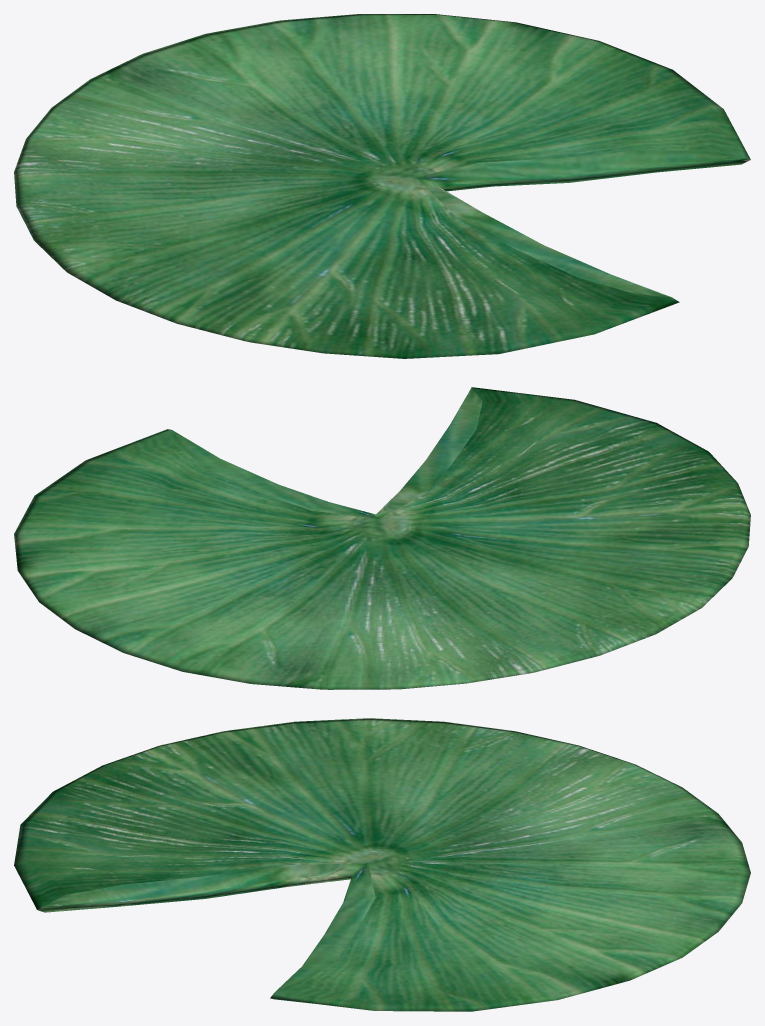
File: Lilypad1CD.fbx
3 renders of one model, top to bottom at view 1: azimuth 30°, elevation 25°; view 2: azimuth 150°, elevation 25°; view 3: azimuth 270°, elevation 25°, orthographic. The views are drawn at different scales.
Visible parts, largest first — view 1: pCube2; view 2: pCube2; view 3: pCube2.
Part boxes in pixels (x1,y1,x2,y2): pCube2: (14,14,750,358); pCube2: (14,387,750,689); pCube2: (14,718,750,1011).
Bounding box in the file's own units: 30.34 × 1.15 × 32.16.
